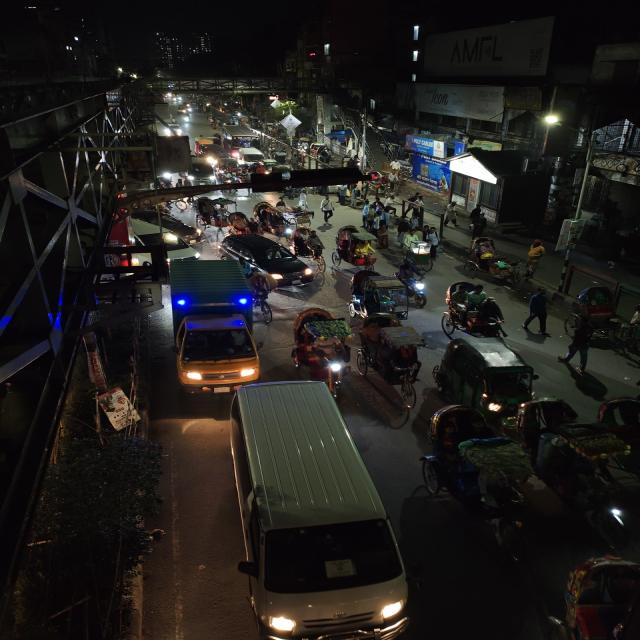bus: (221, 127, 262, 159)
car: (224, 383, 404, 640), (221, 232, 315, 286), (114, 210, 202, 246)
cng: (443, 337, 540, 415)
motorcycle: (440, 289, 510, 341), (396, 258, 431, 306)
pedestrian: (558, 319, 603, 375), (403, 226, 444, 268), (522, 286, 557, 335), (521, 238, 549, 278), (402, 191, 427, 228), (420, 225, 444, 261), (373, 210, 395, 248), (468, 202, 489, 237), (316, 194, 336, 224), (393, 215, 412, 243), (360, 200, 377, 230), (336, 185, 352, 207)
rickshaw: (416, 403, 534, 539), (356, 306, 429, 405), (288, 304, 353, 390), (439, 281, 509, 341), (350, 266, 409, 320), (570, 284, 626, 326), (331, 225, 381, 271), (226, 211, 257, 235)
truck: (163, 258, 271, 399)
